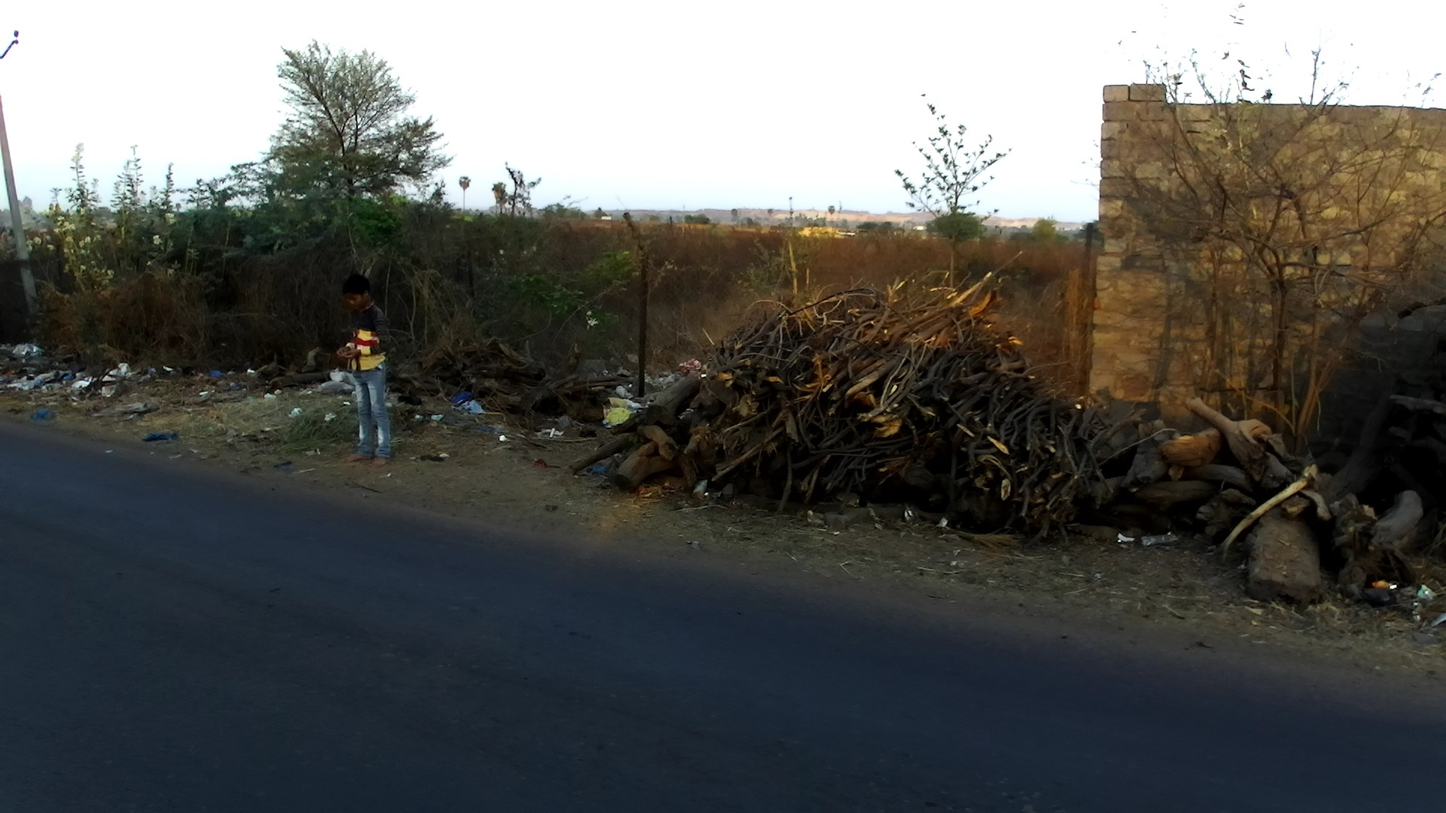person: (338, 275, 393, 464)
